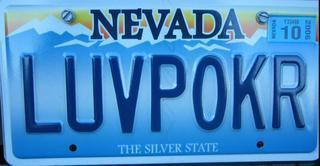placa de veiculo: (4, 2, 317, 158)
